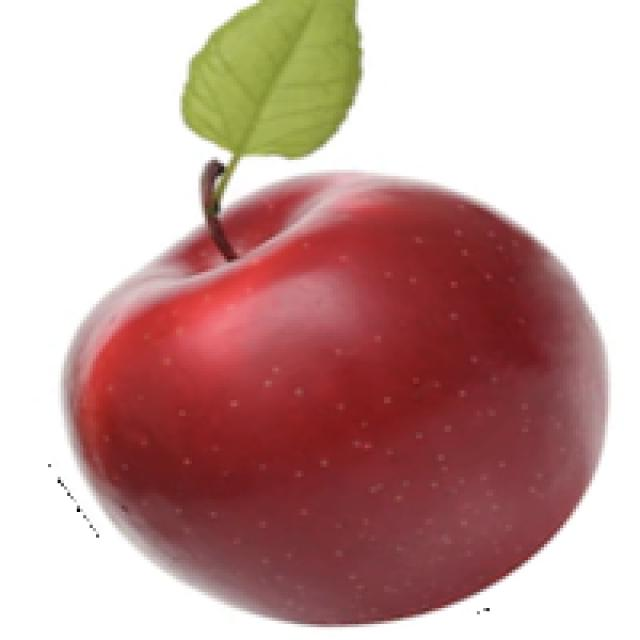apple: (54, 0, 611, 630)
